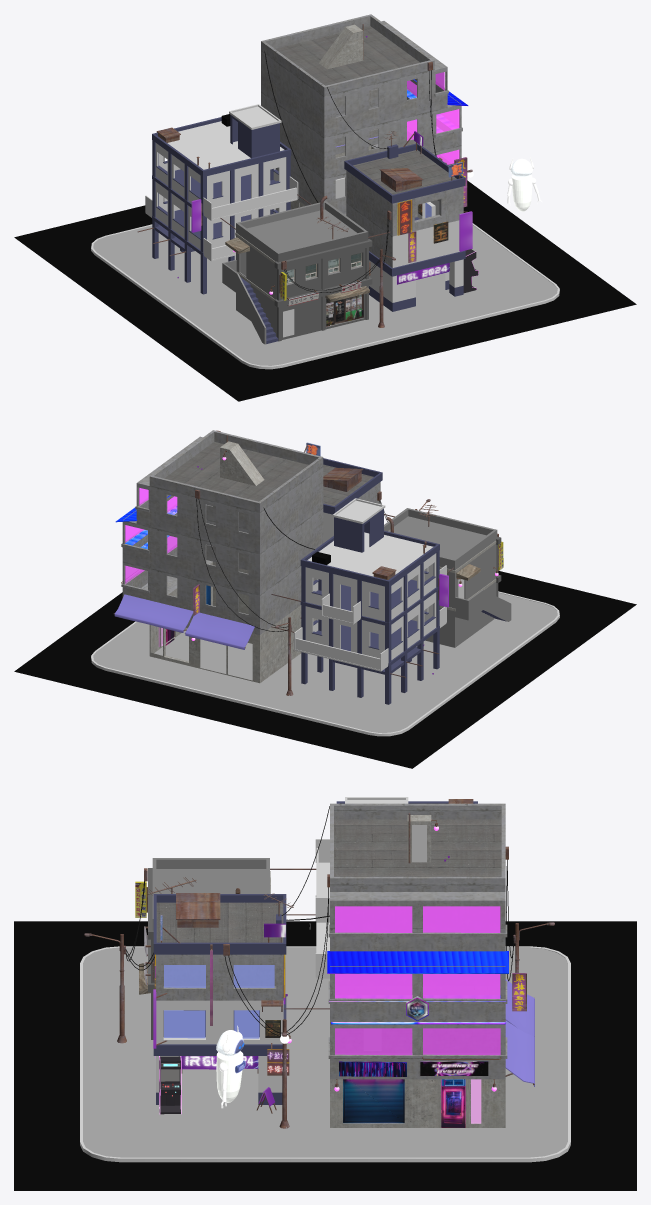
The picture shows the model from 3 angles, top to bottom: view 1: azimuth 30°, elevation 25°; view 2: azimuth 150°, elevation 25°; view 3: azimuth 270°, elevation 25°; orthographic projection. The views are drawn at different scales.
Parts seen in each view (by area): view 1: bawah, Object_39.001, bawah.001, Object_13, Object_14, Object_46, Object_42, Object_10, Object_11, Object_25, Object_16, Object_45 (+6 smaller); view 2: bawah, bawah.001, Object_39, Object_13, Object_14, Object_39.001, Object_46, Object_45, Object_10, Object_38, Object_25, Object_11 (+1 smaller); view 3: bawah, bawah.001, Object_39, Object_10, Object_13, Object_11, Object_25, Object_45, Object_46, Cube, Cube.009, Object_38 (+23 smaller).
Boxes of the visible parts, bbox=[...] form: bawah: bbox=[14, 114, 636, 401]; Object_39.001: bbox=[261, 16, 463, 267]; bawah.001: bbox=[93, 178, 557, 365]; Object_13: bbox=[91, 104, 559, 369]; Object_14: bbox=[152, 115, 463, 343]; Object_46: bbox=[222, 201, 367, 344]; Object_42: bbox=[274, 232, 372, 341]; Object_10: bbox=[275, 26, 456, 194]; Object_11: bbox=[344, 143, 465, 276]; Object_25: bbox=[137, 24, 472, 327]; Object_16: bbox=[280, 252, 363, 326]; Object_45: bbox=[235, 24, 430, 301]; bawah: bbox=[14, 551, 636, 768]; bawah.001: bbox=[93, 592, 557, 732]; Object_39: bbox=[121, 430, 322, 634]; Object_13: bbox=[91, 498, 559, 736]; Object_14: bbox=[300, 508, 506, 704]; Object_39.001: bbox=[122, 432, 380, 634]; Object_46: bbox=[384, 508, 511, 647]; Object_45: bbox=[149, 441, 496, 683]; Object_10: bbox=[164, 441, 373, 505]; Object_38: bbox=[114, 594, 254, 649]; Object_25: bbox=[113, 430, 499, 695]; Object_11: bbox=[323, 458, 382, 514]; bawah: bbox=[14, 921, 636, 1190]; bawah.001: bbox=[83, 948, 567, 1157]; Object_39: bbox=[156, 803, 507, 1078]; Object_10: bbox=[156, 819, 501, 942]; Object_13: bbox=[80, 797, 570, 1162]; Object_11: bbox=[153, 894, 286, 1055]; Object_25: bbox=[84, 799, 554, 1128]; Object_45: bbox=[270, 815, 505, 1127]; Object_46: bbox=[152, 858, 269, 930]; Cube: bbox=[327, 951, 508, 973]; Cube.009: bbox=[343, 1079, 404, 1123]; Object_38: bbox=[505, 979, 534, 1086].
Bounding box in the file's own units: 58.16 × 29.12 × 56.77.
Materials: 71 (16 with a texture image).
